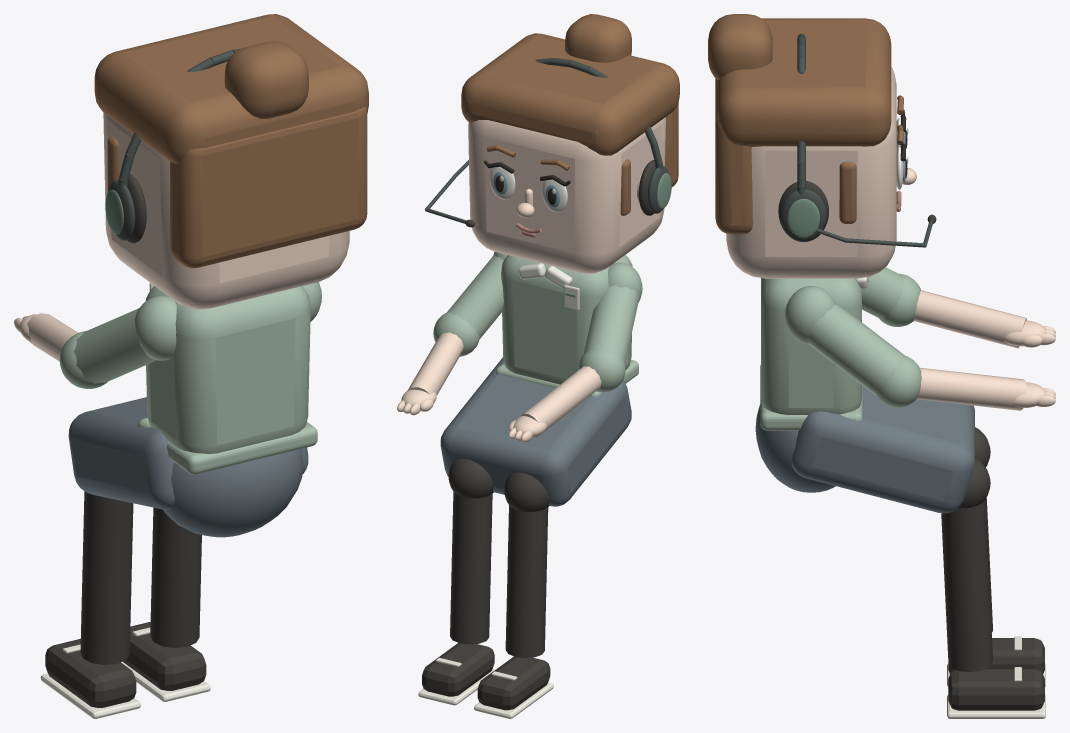
The model's file is person-seated-3.glb.
The picture shows the model from 3 angles, left to right: view 1: azimuth 30°, elevation 25°; view 2: azimuth 150°, elevation 25°; view 3: azimuth 270°, elevation 25°; orthographic projection. The views are drawn at different scales.
Parts seen in each view (by area): view 1: Head.006, person-seated-3 Shirt, person-seated-3 Shoes, person-seated-3 Trousers, person-seated-3 Warm porcelain, ForearmL.006; view 2: Head.006, person-seated-3 Shoes, person-seated-3 Shirt, person-seated-3 Trousers, ForearmL.006, person-seated-3 Warm porcelain, ForearmR.006; view 3: Head.006, person-seated-3 Shirt, person-seated-3 Trousers, person-seated-3 Shoes, ForearmL.006, ForearmR.006, person-seated-3 Warm porcelain.
Boxes of the visible parts, x1,y1,x2,y2 form: Head.006: (94,14,368,309); person-seated-3 Shirt: (59,282,321,474); person-seated-3 Shoes: (45,491,206,707); person-seated-3 Trousers: (68,397,308,537); person-seated-3 Warm porcelain: (40,283,210,718); ForearmL.006: (14,313,78,361); Head.006: (425,14,679,273); person-seated-3 Shoes: (422,459,550,710); person-seated-3 Shirt: (433,252,642,397); person-seated-3 Trousers: (440,357,631,506); ForearmL.006: (508,366,601,442); person-seated-3 Warm porcelain: (418,263,579,718); ForearmR.006: (397,332,463,415); Head.006: (708,14,936,278); person-seated-3 Shirt: (760,267,921,430); person-seated-3 Trousers: (755,386,974,513); person-seated-3 Shoes: (941,427,1044,710); ForearmL.006: (914,290,1055,348); ForearmR.006: (916,367,1055,410); person-seated-3 Warm porcelain: (855,277,1045,718).
Size of the model in its own units: 0.592 by 1.73 by 0.8075.
